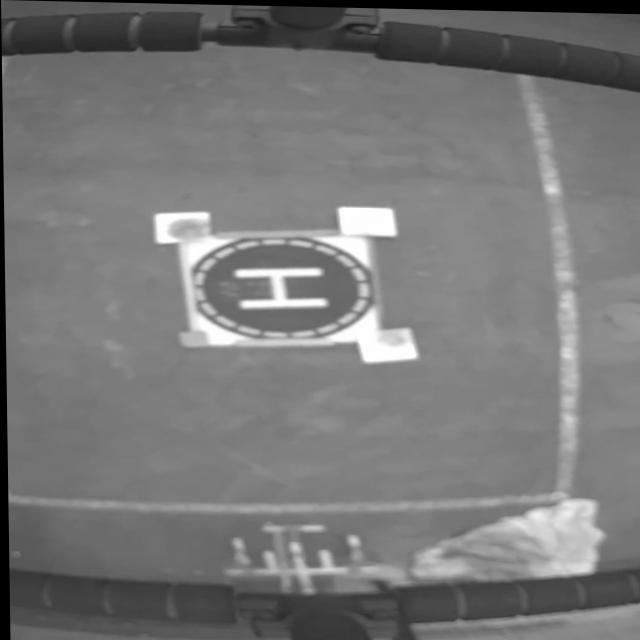Helipad: (229, 267, 327, 308)
